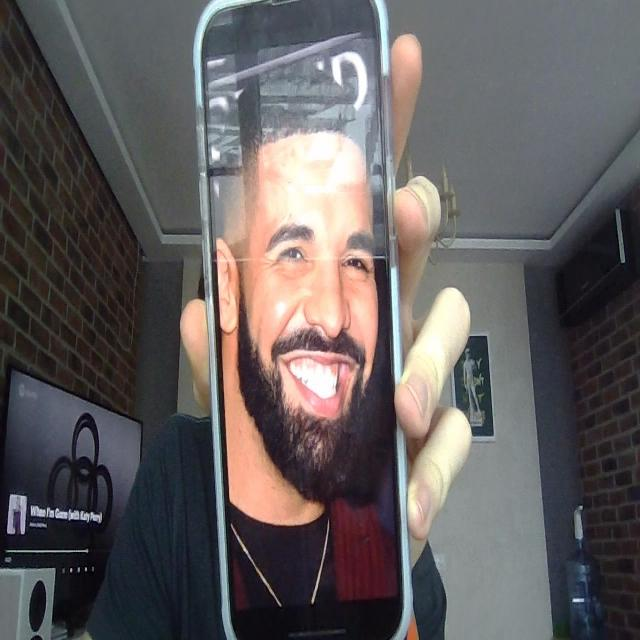device: (190, 0, 430, 640)
